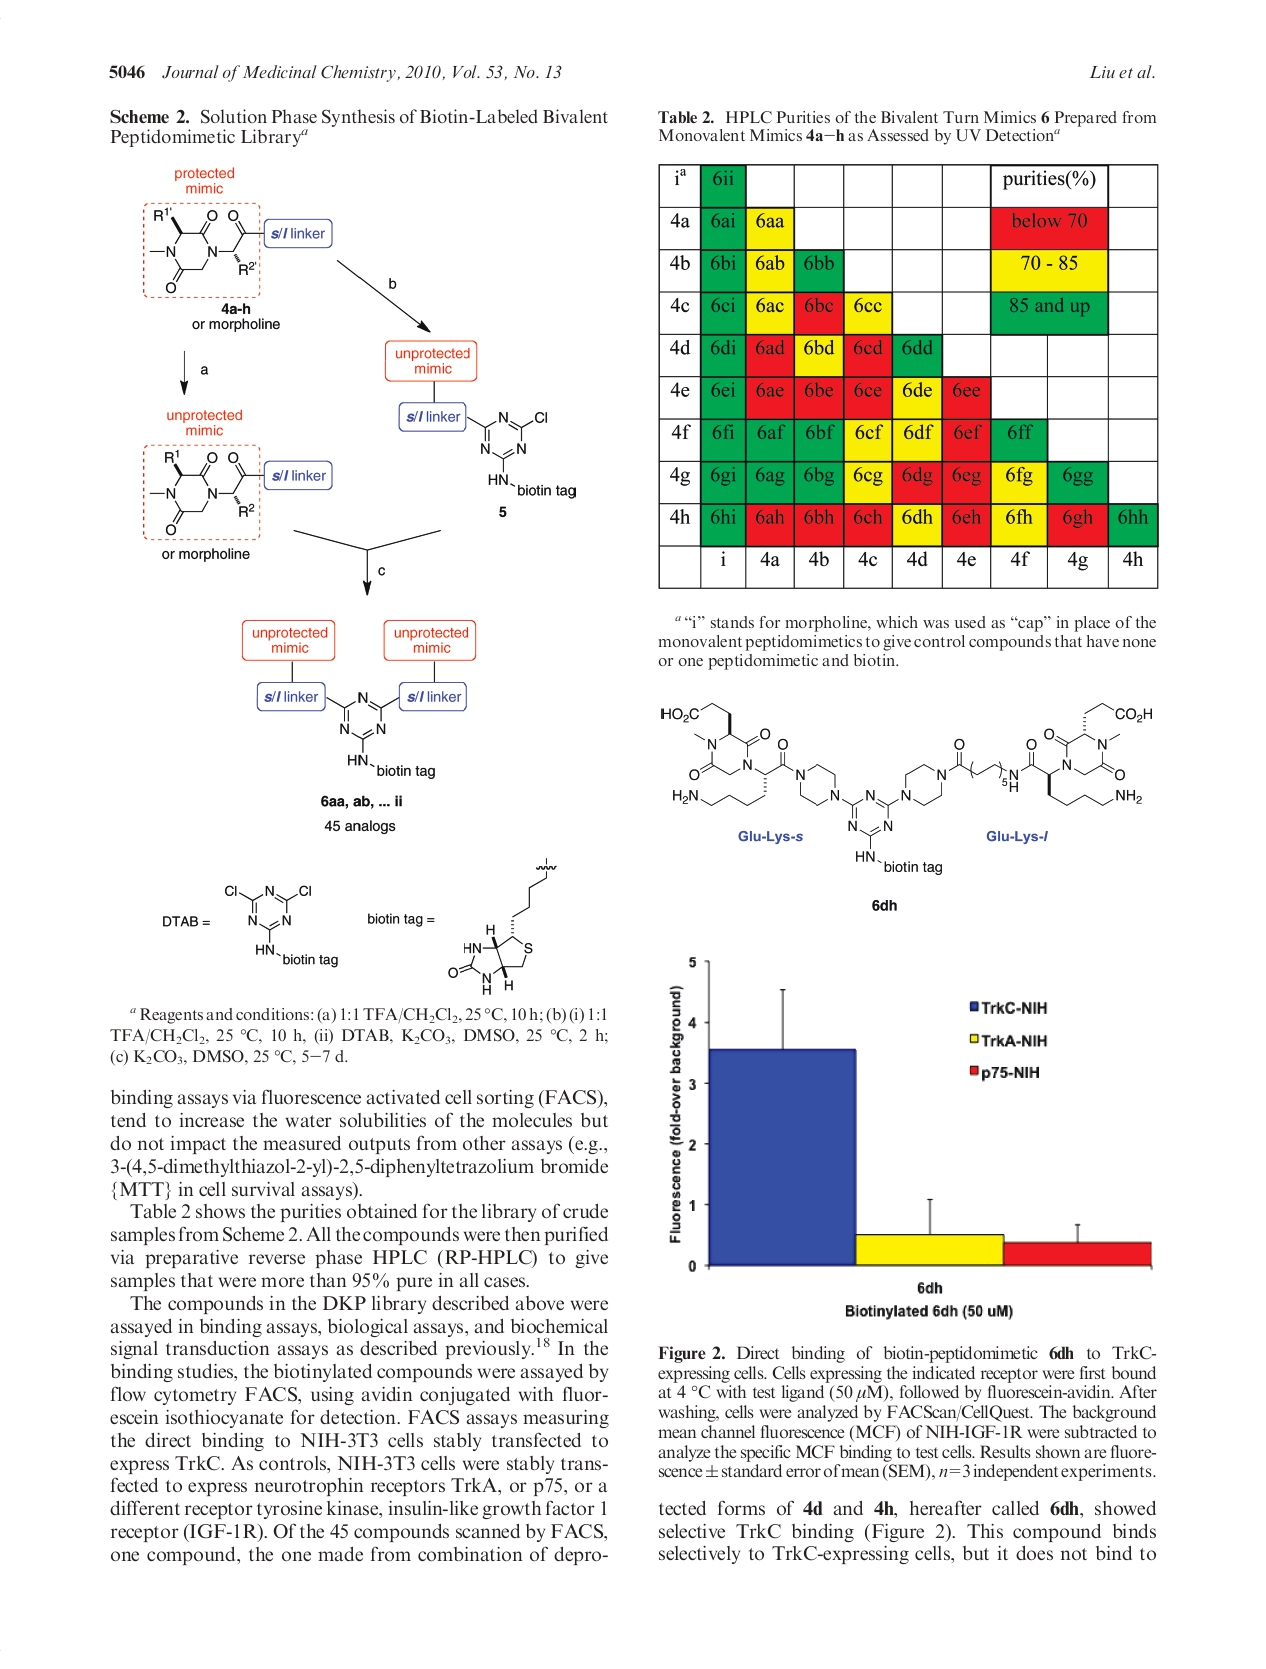exist_molecular: (633, 692, 1166, 876), (387, 394, 582, 509), (442, 848, 564, 995), (146, 210, 332, 298), (314, 680, 457, 789), (219, 870, 346, 979), (142, 449, 258, 543)
